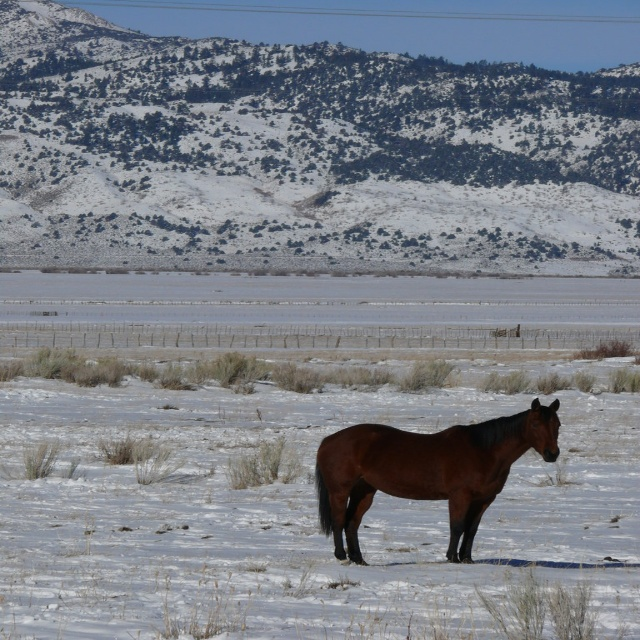Horse: (313, 397, 567, 564)
